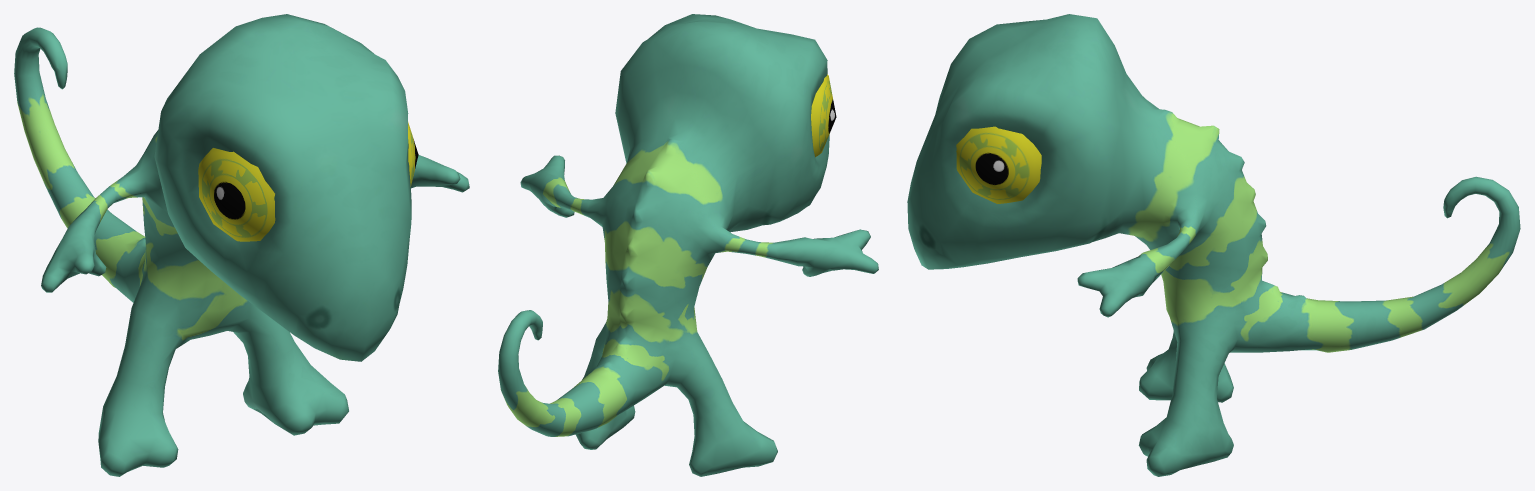
File: camaleao.FBX
3 renders of one model, left to right at view 1: azimuth 30°, elevation 25°; view 2: azimuth 150°, elevation 25°; view 3: azimuth 270°, elevation 25°, orthographic. The views are drawn at different scales.
Visible parts, largest first — view 1: Camaleao, Sphere004; view 2: Camaleao, Sphere004; view 3: Camaleao, Sphere003.
Boxes of the visible parts, x1,y1,x2,y2 form: Camaleao: (14,14,469,476); Sphere004: (198,148,275,241); Camaleao: (498,14,878,476); Sphere004: (811,74,836,157); Camaleao: (907,14,1520,476); Sphere003: (956,126,1041,203).
Size of the model in its own units: 168 by 173 by 238.
1 material, 1 textured.
